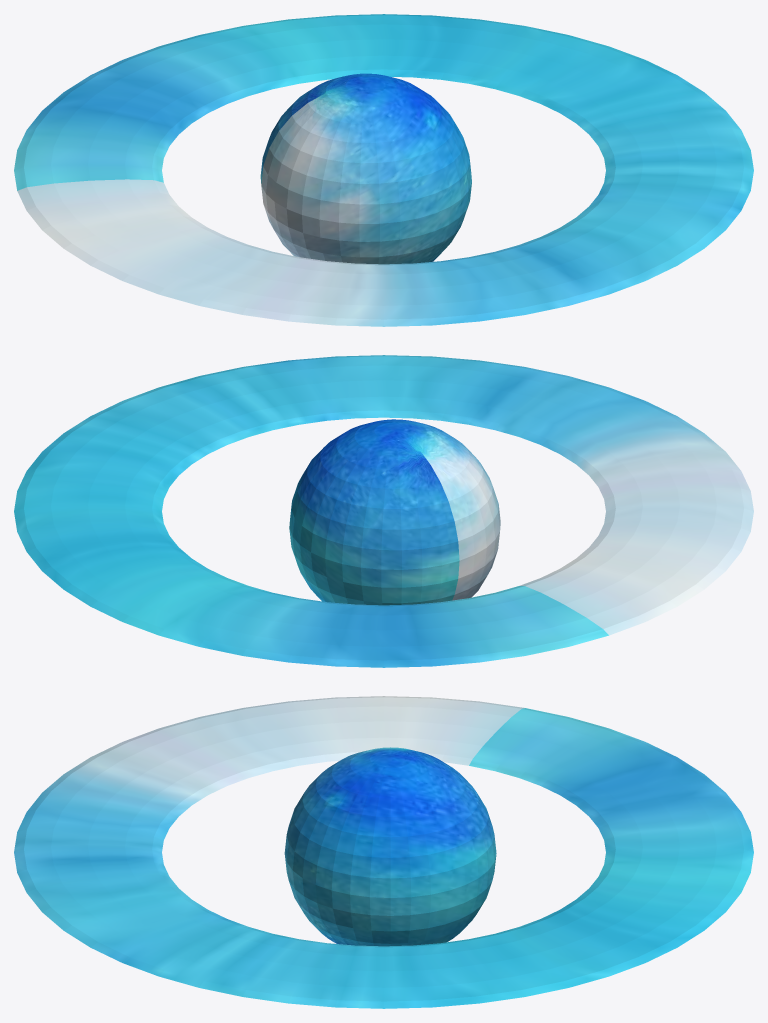
Rendered from ebin_planeetta.fbx.
3 views of the same model, one above another, from view 1: azimuth 30°, elevation 25°; view 2: azimuth 150°, elevation 25°; view 3: azimuth 270°, elevation 25° (orthographic).
Visible parts, largest first — view 1: Torus.001, Sphere; view 2: Torus.001, Sphere; view 3: Torus.001, Sphere.
Part boxes in pixels (x1,y1,x2,y2): Torus.001: (14, 14, 753, 326); Sphere: (260, 73, 471, 264); Torus.001: (14, 355, 753, 667); Sphere: (289, 419, 500, 605); Torus.001: (14, 696, 753, 1008); Sphere: (284, 747, 496, 946).
Bounding box in the file's own units: 1876 × 537 × 1876.
2 materials, 2 textured.
